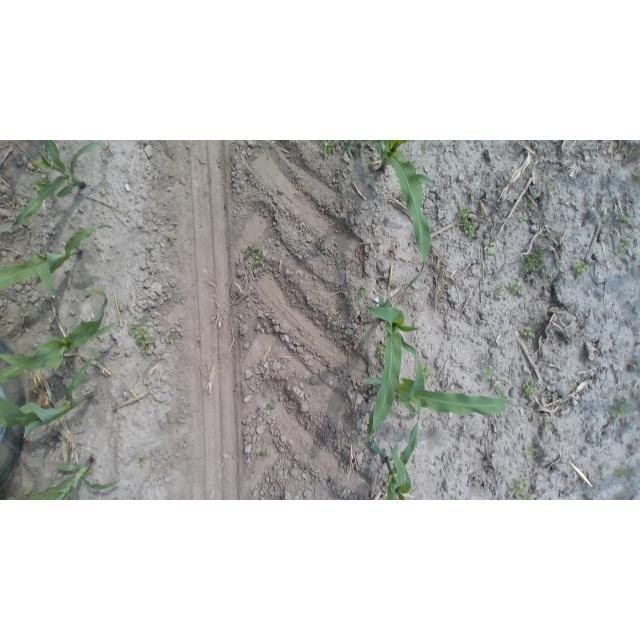Maize: (345, 140, 438, 292), (342, 294, 422, 449), (0, 288, 120, 384), (359, 353, 511, 420), (1, 140, 108, 233), (0, 349, 108, 439), (0, 222, 114, 307), (1, 457, 122, 500), (368, 416, 422, 500)
Weeds: (128, 316, 157, 353), (522, 243, 547, 273), (459, 204, 480, 238), (508, 478, 537, 500), (246, 243, 267, 268), (610, 397, 632, 420), (568, 261, 592, 281), (613, 238, 631, 259), (319, 141, 339, 158), (31, 176, 51, 191), (521, 380, 537, 397), (482, 240, 498, 257), (508, 282, 526, 297), (544, 183, 562, 198), (519, 325, 536, 340), (420, 364, 434, 381), (258, 448, 274, 461), (481, 367, 495, 381), (620, 211, 633, 226), (524, 443, 537, 458), (494, 282, 507, 296), (137, 455, 150, 468), (516, 211, 530, 223), (163, 234, 177, 246), (166, 332, 178, 346), (523, 196, 534, 210), (368, 470, 379, 484), (377, 345, 388, 358), (308, 473, 319, 485), (543, 417, 554, 429), (616, 467, 629, 477), (357, 284, 368, 295), (267, 402, 278, 413), (22, 487, 34, 497), (633, 166, 640, 183), (568, 378, 579, 387), (282, 461, 291, 470), (84, 469, 93, 478), (347, 176, 355, 185)
